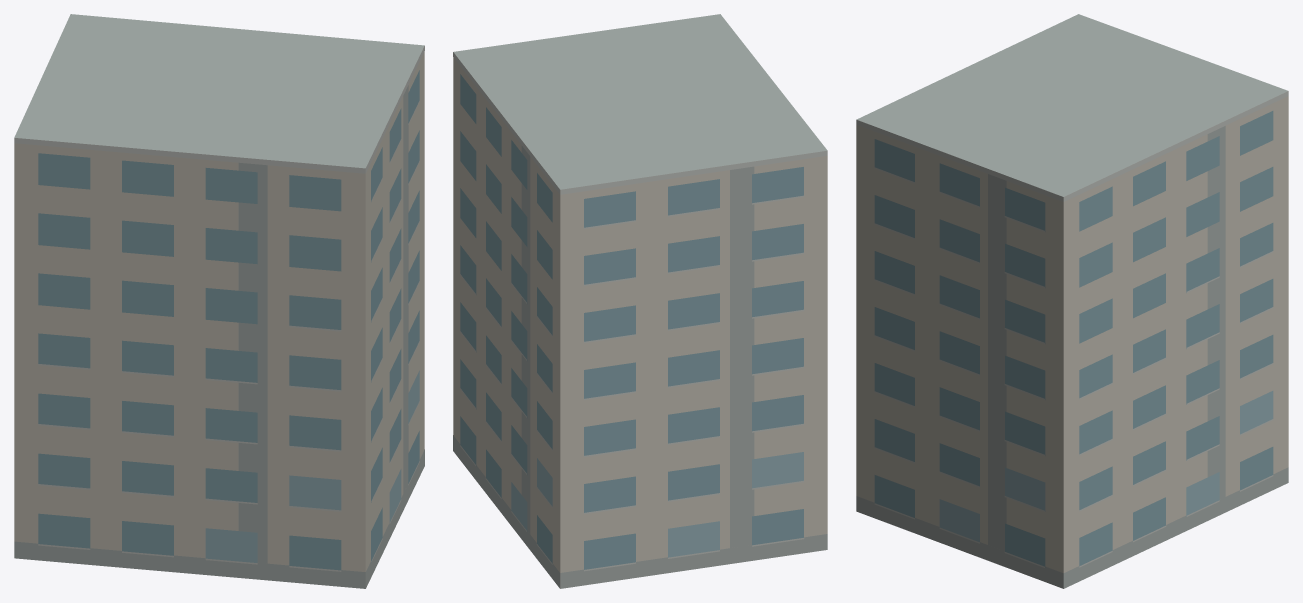
The model's file is survey-upis-32523855.glb.
The picture shows the model from 3 angles, left to right: view 1: azimuth 30°, elevation 25°; view 2: azimuth 150°, elevation 25°; view 3: azimuth 270°, elevation 25°; orthographic projection. The views are drawn at different scales.
Visible parts, largest first — view 1: survey-upis-32523855.tmp; view 2: survey-upis-32523855.tmp; view 3: survey-upis-32523855.tmp.
Part boxes in pixels (x1,y1,x2,y2): survey-upis-32523855.tmp: (14,14,424,588); survey-upis-32523855.tmp: (453,14,827,588); survey-upis-32523855.tmp: (856,14,1288,588).
Size of the model in its own units: 18.99 by 18.95 by 18.95.
